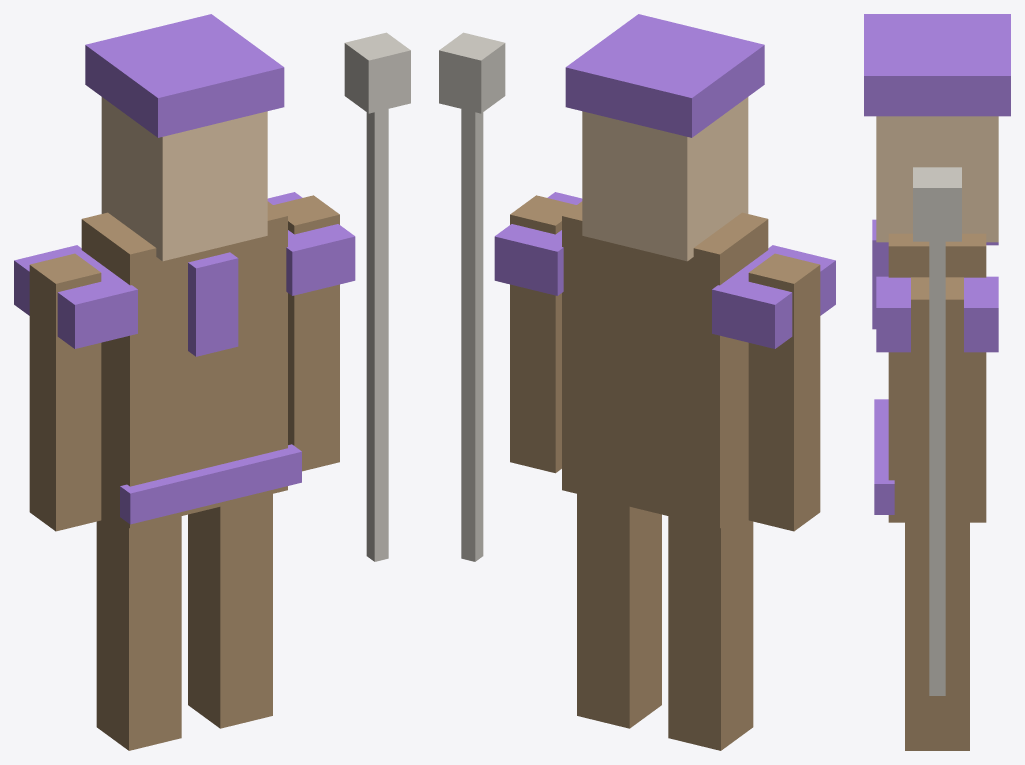
The model's file is 14_quill_gravesong_engineer_from_ravine.glb.
3 renders of one model, left to right at view 1: azimuth 30°, elevation 25°; view 2: azimuth 150°, elevation 25°; view 3: azimuth 270°, elevation 25°, orthographic.
Visible parts, largest first — view 1: Quill Gravesong, Engineer from Ravine; view 2: Quill Gravesong, Engineer from Ravine; view 3: Quill Gravesong, Engineer from Ravine.
Part boxes in pixels (<box>): Quill Gravesong, Engineer from Ravine: <box>14,14,410,750</box>; Quill Gravesong, Engineer from Ravine: <box>439,14,835,750</box>; Quill Gravesong, Engineer from Ravine: <box>864,14,1010,750</box>.
Bounding box in the file's own units: 0.9406 × 1.68 × 0.3336.
